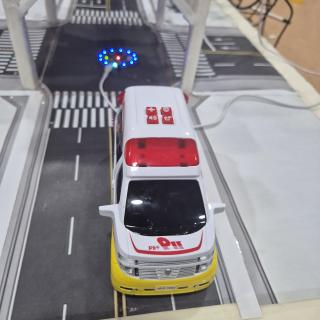Ambulance: (99, 86, 225, 295)
